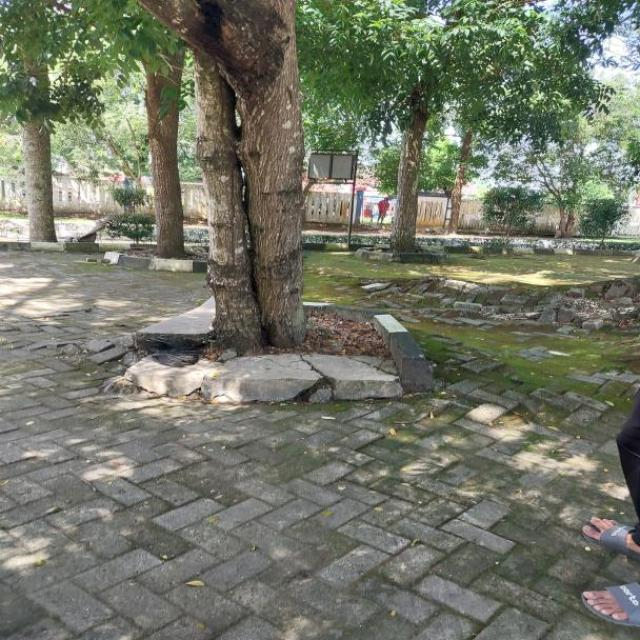tree ahead at: (150, 0, 320, 344)
